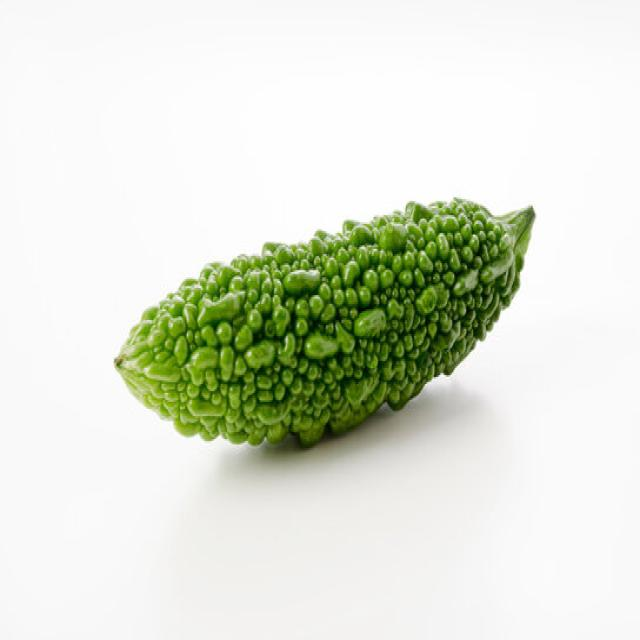Bitter_Gourd: (113, 194, 535, 448)
